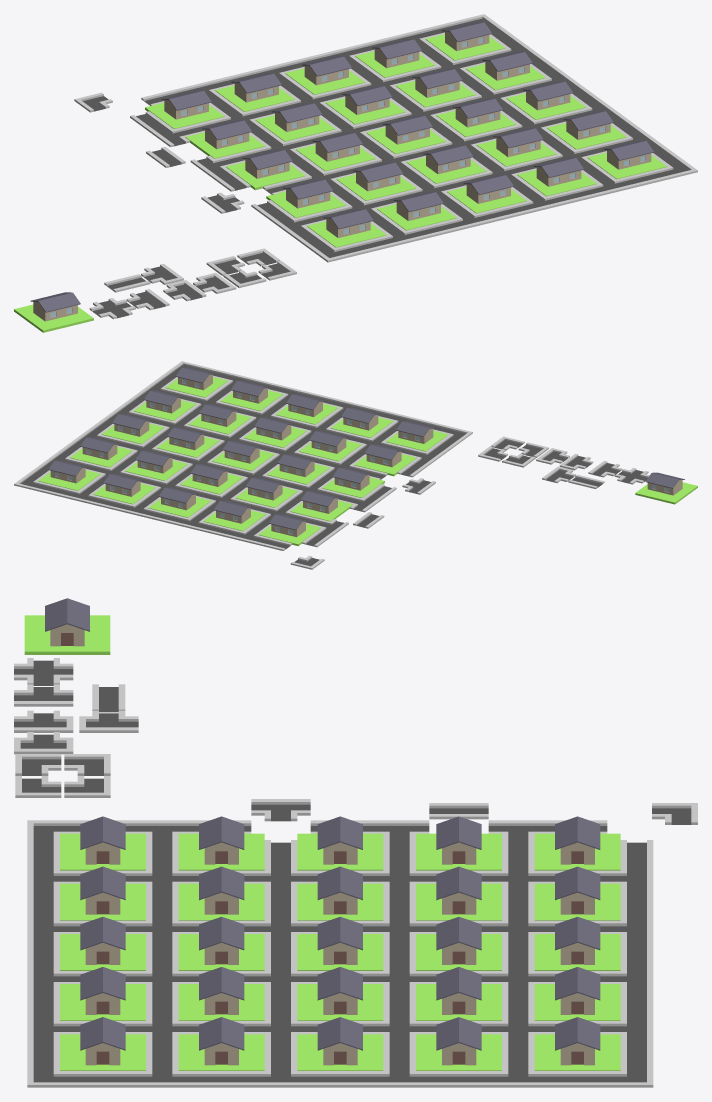
File: Modular Roads City.fbx
3 renders of one model, top to bottom at view 1: azimuth 30°, elevation 25°; view 2: azimuth 150°, elevation 25°; view 3: azimuth 270°, elevation 25°, orthographic. The views are drawn at different scales.
Parts seen in each view (by area): view 1: Cube.058, Cube.068, Cube.043, Cube.065, Cube.057, Cube.066, Cube.061, Cube.056, Cube.055, Cube.054, Cube.051, Cube.000 (+53 smaller); view 2: Cube.052, Cube.062, Cube.058, Cube.000, Cube.054, Cube.069, Cube.061, Cube.057, Cube.056, Cube.040, Cube.041, Cube.068 (+50 smaller); view 3: Plane.000, Plane.145, Plane.144, Plane.155, Plane.142, Plane.154, Plane.143, Plane.148, Plane.158, Plane.152, Plane.139, Plane.044 (+122 smaller).
Boxes of the visible parts, x1,y1,x2,y2 form: Cube.058: (453, 98, 502, 127); Cube.068: (372, 39, 421, 68); Cube.043: (534, 157, 583, 186); Cube.065: (161, 90, 211, 119); Cube.057: (382, 115, 432, 144); Cube.066: (231, 73, 281, 102); Cube.061: (412, 68, 462, 97); Cube.056: (312, 132, 362, 161); Cube.055: (242, 149, 292, 178); Cube.054: (283, 179, 332, 208); Cube.051: (493, 128, 543, 156); Cube.000: (30, 292, 80, 321); Cube.052: (254, 417, 293, 440); Cube.062: (190, 464, 229, 486); Cube.058: (167, 427, 206, 450); Cube.000: (645, 472, 684, 495); Cube.054: (364, 444, 403, 467); Cube.069: (48, 460, 87, 483); Cube.061: (135, 450, 174, 473); Cube.057: (222, 440, 261, 463); Cube.056: (277, 454, 316, 477); Cube.040: (341, 407, 380, 430); Cube.041: (396, 421, 435, 443); Cube.068: (103, 474, 142, 496); Plane.000: (24, 615, 110, 654); Plane.145: (297, 883, 383, 920); Plane.144: (297, 833, 383, 870); Plane.155: (534, 883, 620, 920); Plane.142: (178, 883, 264, 920); Plane.154: (534, 833, 620, 870); Plane.143: (178, 833, 264, 870); Plane.148: (297, 1034, 383, 1070); Plane.158: (534, 1034, 620, 1070); Plane.152: (416, 883, 501, 920); Plane.139: (178, 1034, 264, 1070); Plane.044: (60, 883, 145, 920).
Size of the model in its own units: 37400 by 1025 by 23056.
